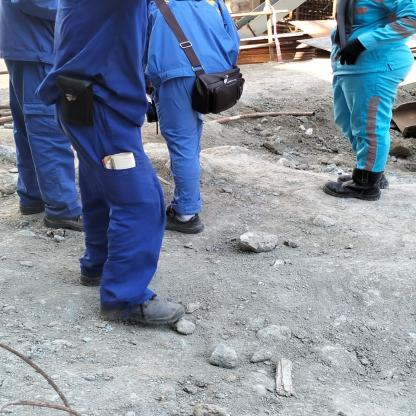bota: (99, 290, 184, 325), (324, 170, 395, 201), (45, 204, 95, 232), (158, 207, 204, 236)
